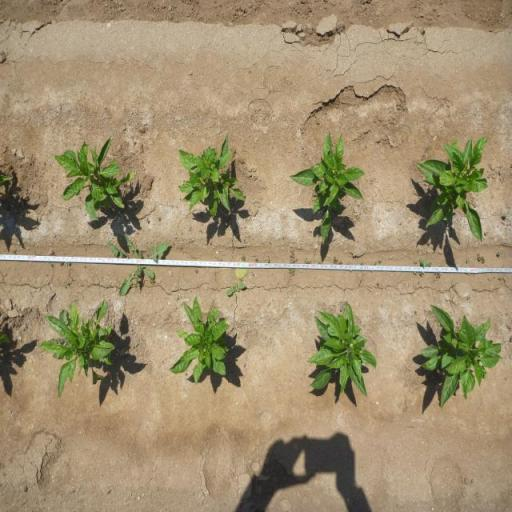plant: (286, 126, 366, 247), (419, 302, 504, 413), (408, 132, 490, 246), (39, 298, 117, 404), (55, 131, 136, 225), (310, 306, 380, 402), (174, 131, 248, 220), (168, 294, 235, 386)
weed: (107, 229, 173, 301), (418, 257, 433, 276), (226, 282, 246, 296), (289, 247, 298, 263), (476, 252, 486, 266), (333, 256, 343, 264), (434, 272, 444, 280), (288, 268, 296, 276), (304, 257, 312, 264), (58, 261, 64, 268), (64, 261, 71, 265), (267, 254, 270, 263)
